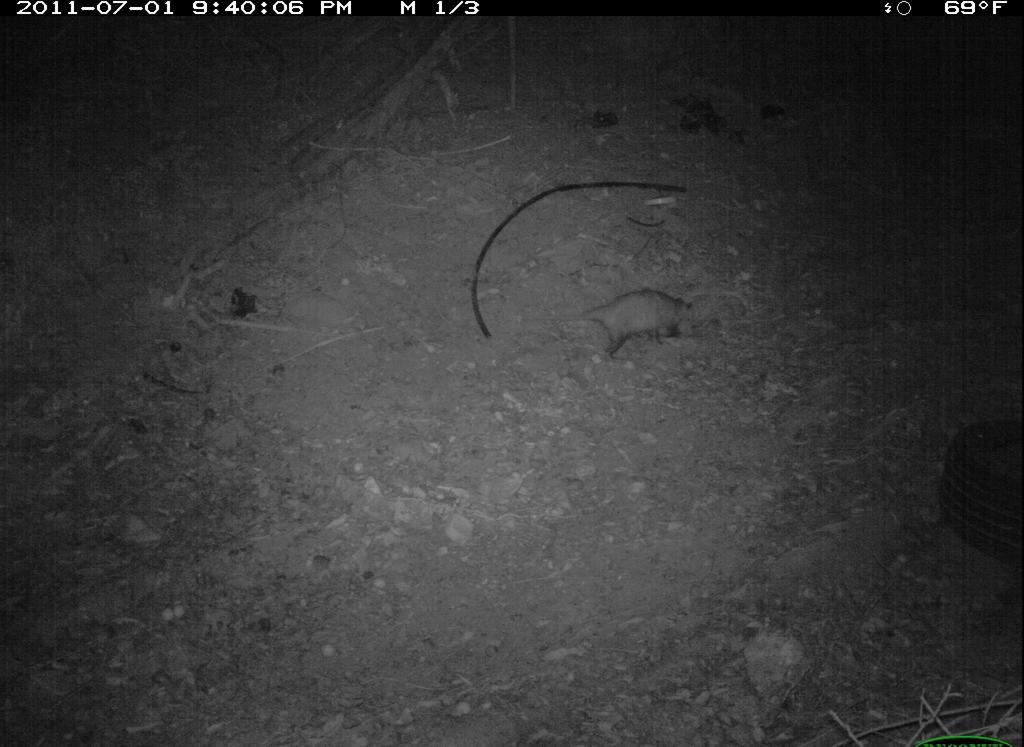opossum: (553, 268, 742, 365)
